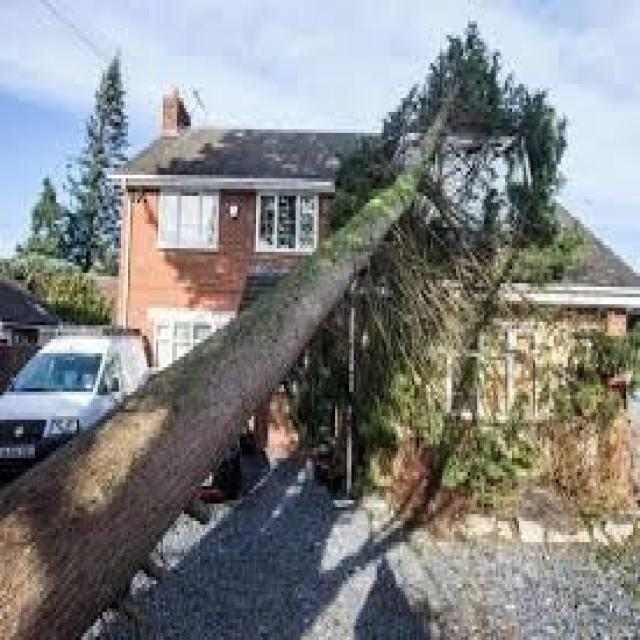fallen_object: (0, 27, 548, 640)
